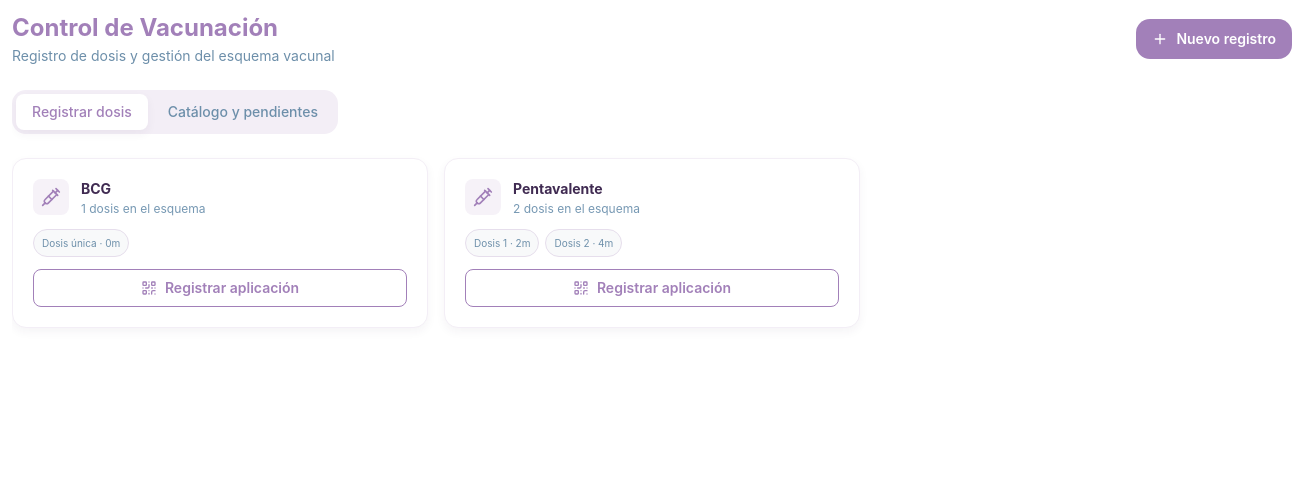
Scenario: VaccinationView – catálogo y pendientes › panel de pacientes pendientes › usa singular cuando hay un solo paciente
expect the heading "Control de Vacunación" is shown: met, box 12,13 -> 278,42
Click the button "Catálogo y pendientes". click: (243, 112)
box: 152,94 -> 334,130
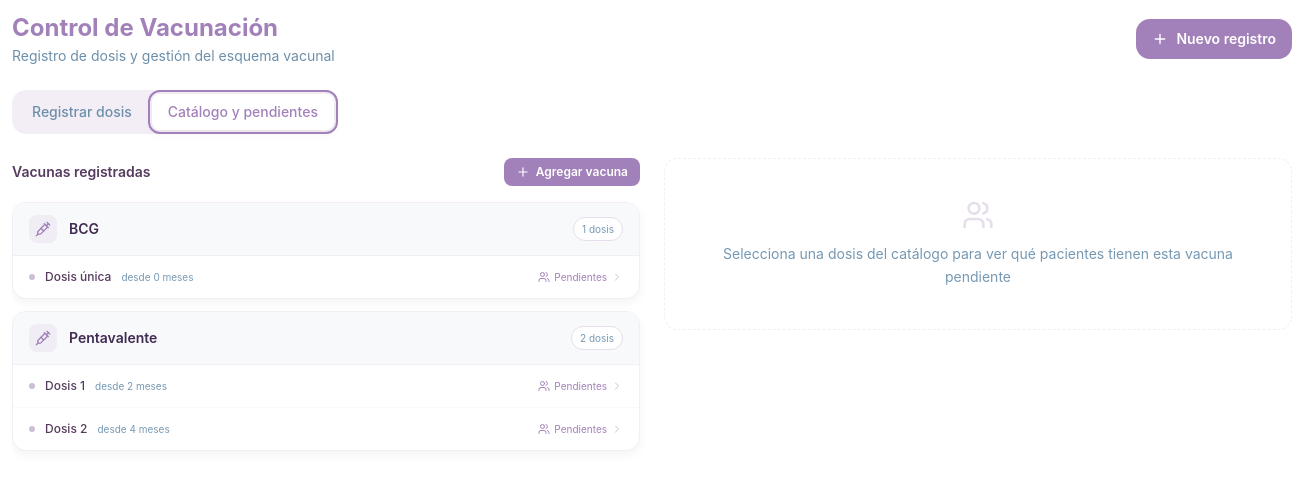
Click the button "Dosis 1 desde 2 meses Pendientes". click: (65, 386)
box: 13,365 -> 639,408
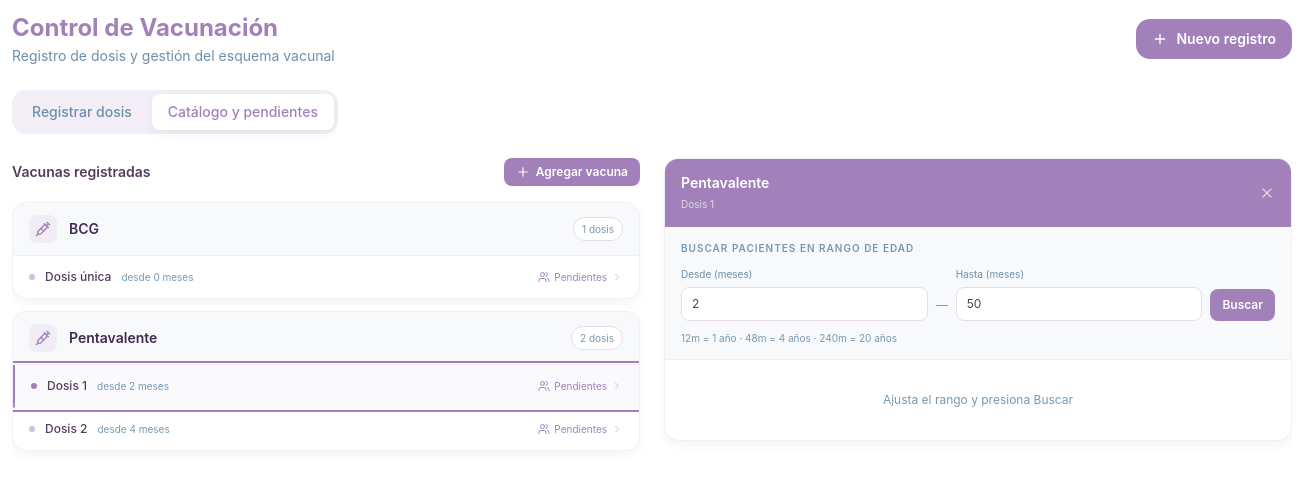
Replace the text in the number field below "Desde (meses)" with "5". click: (804, 304)
box: 681,287 -> 928,321
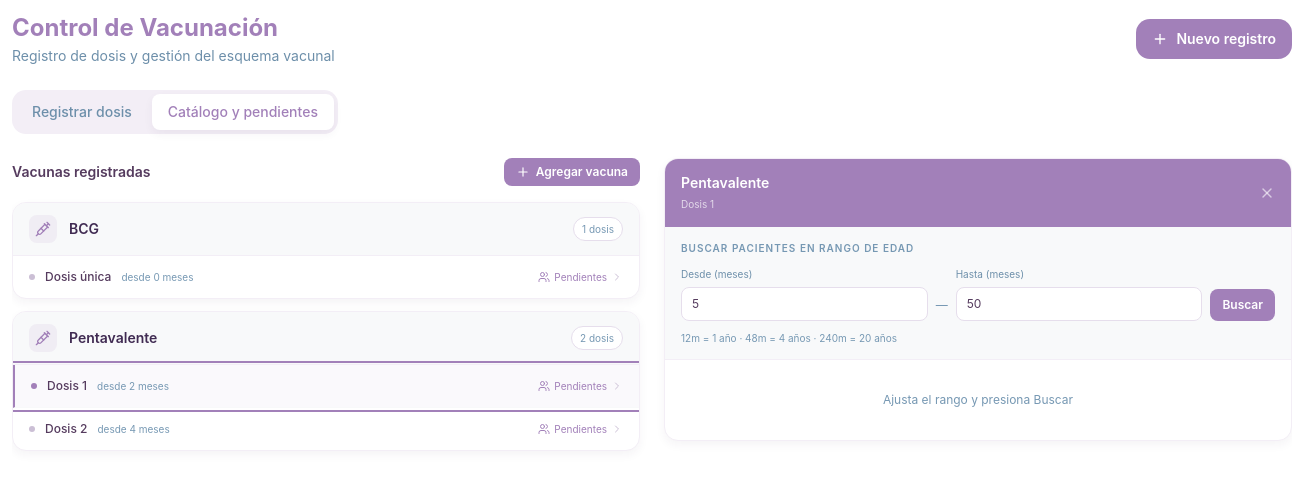
Click the button "Buscar". click: (1243, 305)
box: 1210,289 -> 1275,321
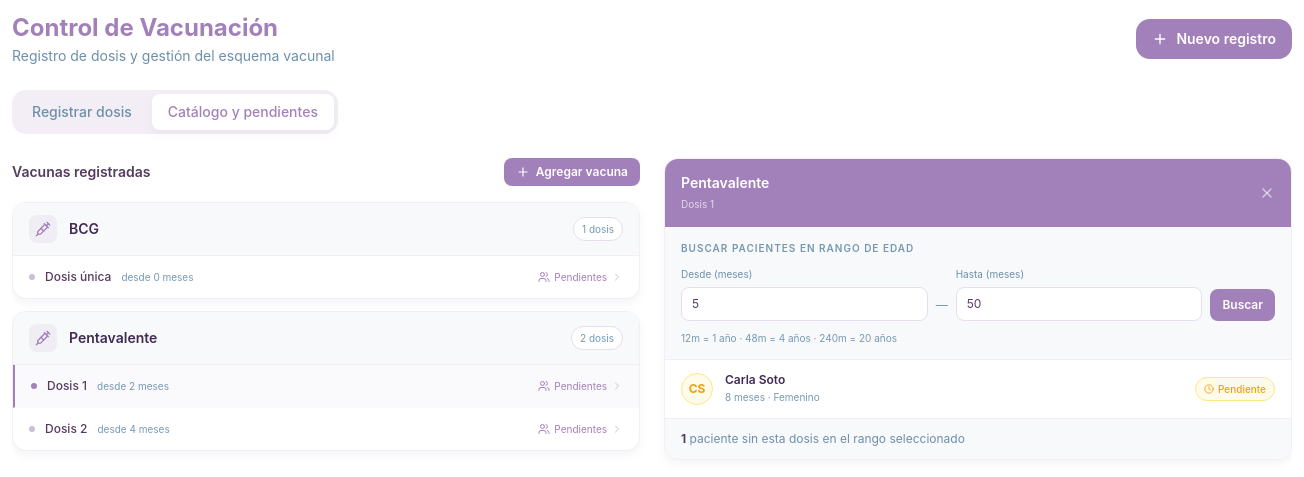
expect the text "Carla Soto" is shown: met, box 725,372 -> 785,387
expect the text "1 paciente sin esta dosis en el rango seleccionado" is shown: met, box 681,431 -> 965,446
